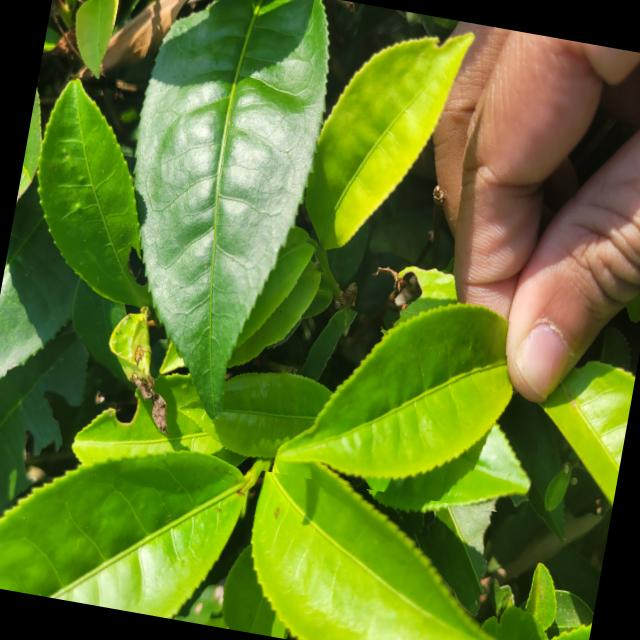Catagory A(1-2 days): (254, 262, 562, 516)
